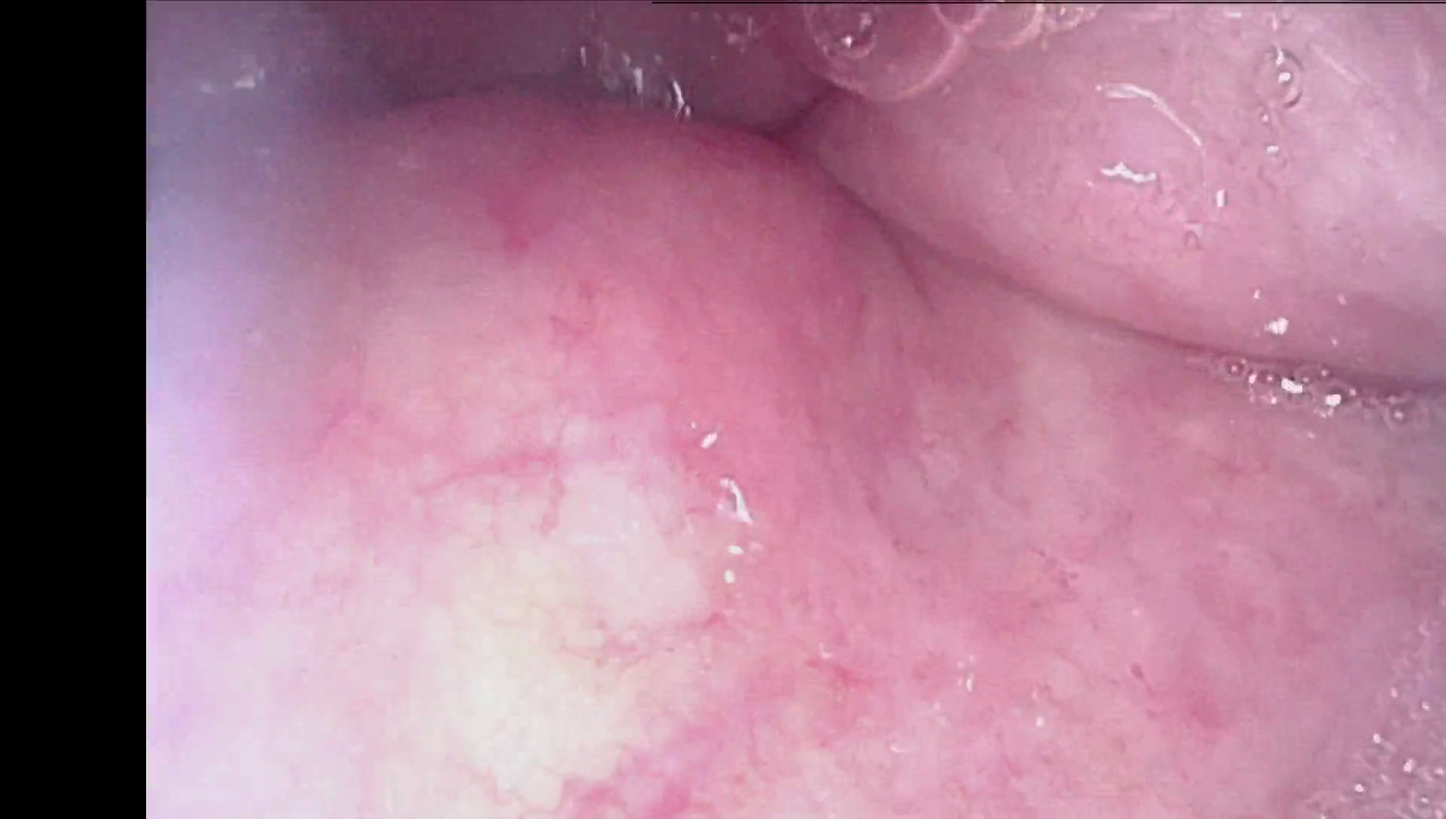close_wall: (173, 242, 964, 819)
